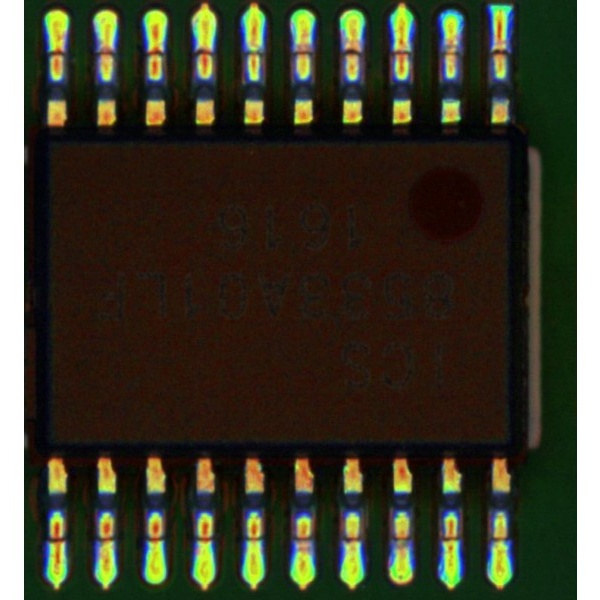Bad_podu: (344, 527, 358, 561), (296, 35, 310, 67), (345, 34, 358, 68), (199, 28, 210, 68), (443, 528, 456, 559), (148, 38, 161, 68), (446, 42, 460, 69), (396, 32, 406, 69), (100, 527, 110, 561), (495, 34, 505, 67), (51, 528, 62, 558), (248, 35, 258, 67), (298, 527, 309, 556), (99, 37, 109, 64), (52, 35, 60, 67)
